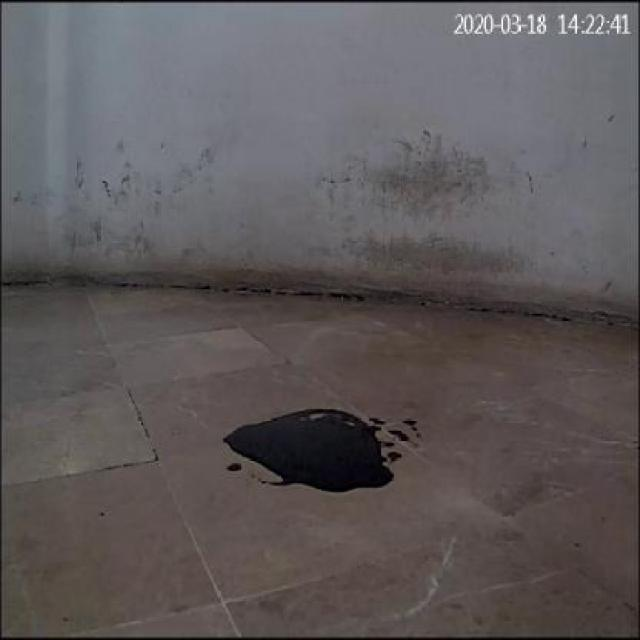spill: (230, 408, 390, 494)
